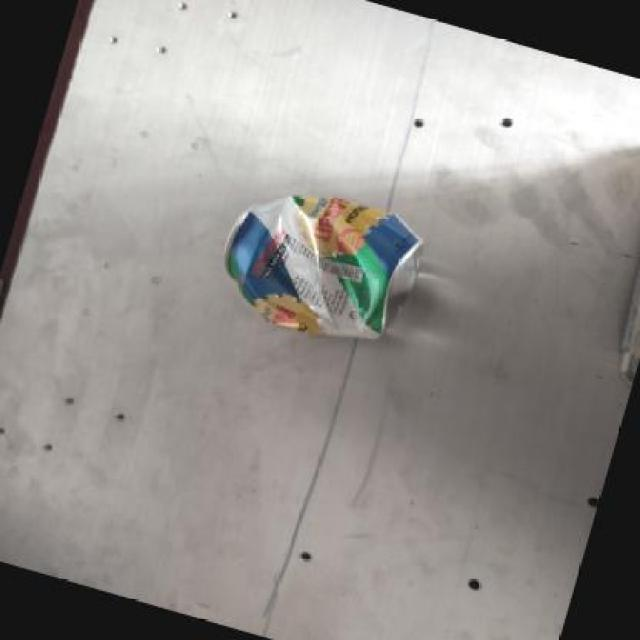can: (190, 156, 448, 378)
